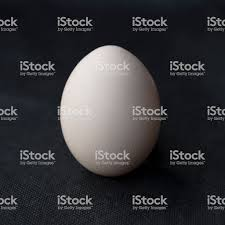egg: (60, 45, 161, 177)
